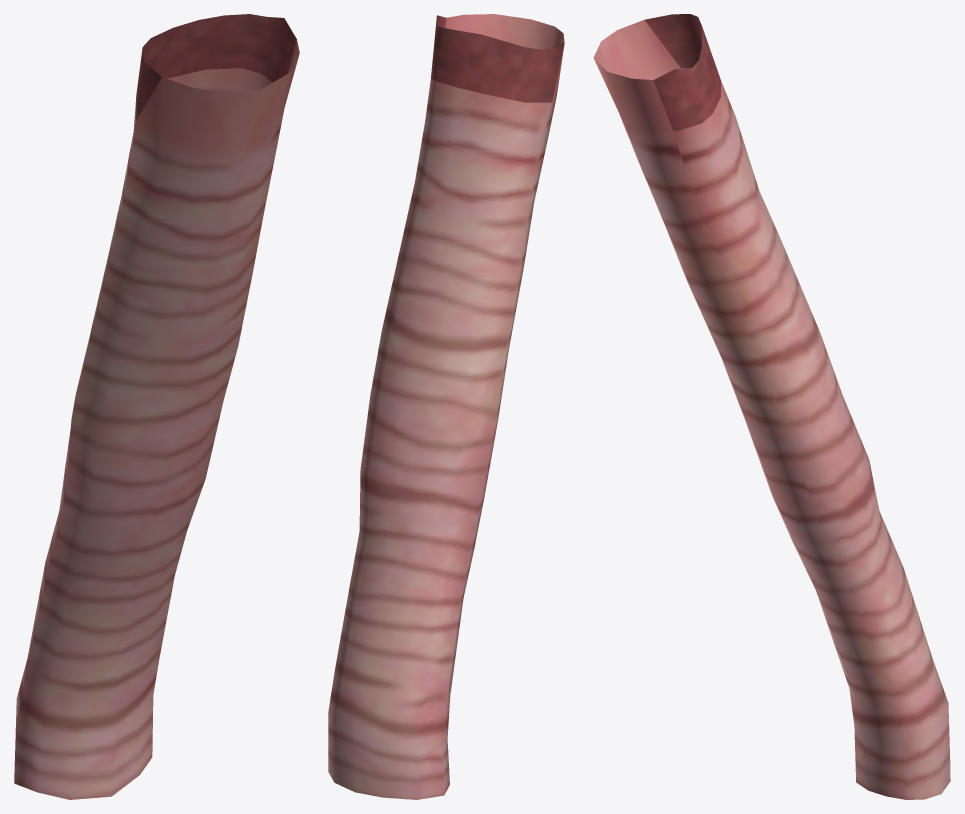
The model's file is 2.4 Trachea.glb.
3 views of the same model, side by side, from view 1: azimuth 30°, elevation 25°; view 2: azimuth 150°, elevation 25°; view 3: azimuth 270°, elevation 25° (orthographic). The views are drawn at different scales.
Visible parts, largest first — view 1: Trachea; view 2: Trachea; view 3: Trachea.
Boxes of the visible parts, <box> form: Trachea: <box>14,14,299,799</box>; Trachea: <box>328,14,564,799</box>; Trachea: <box>593,14,950,799</box>.
Size of the model in its own units: 0.0249 by 0.1297 by 0.0561.
1 material, 1 textured.
